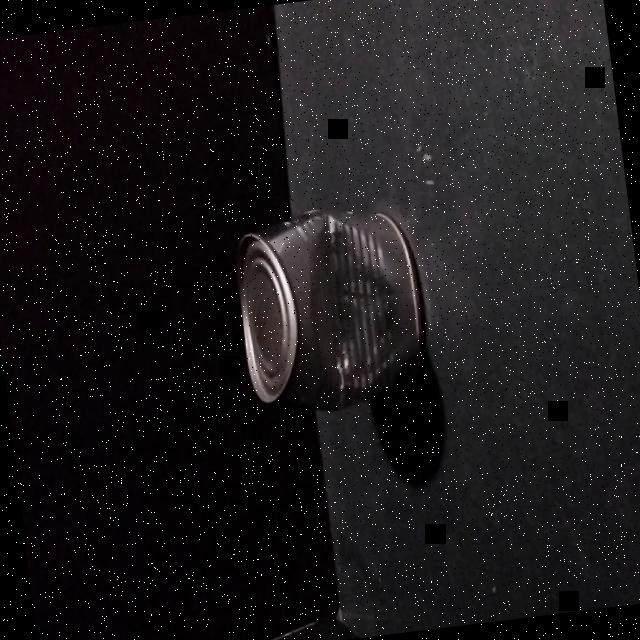can: (225, 195, 432, 421)
